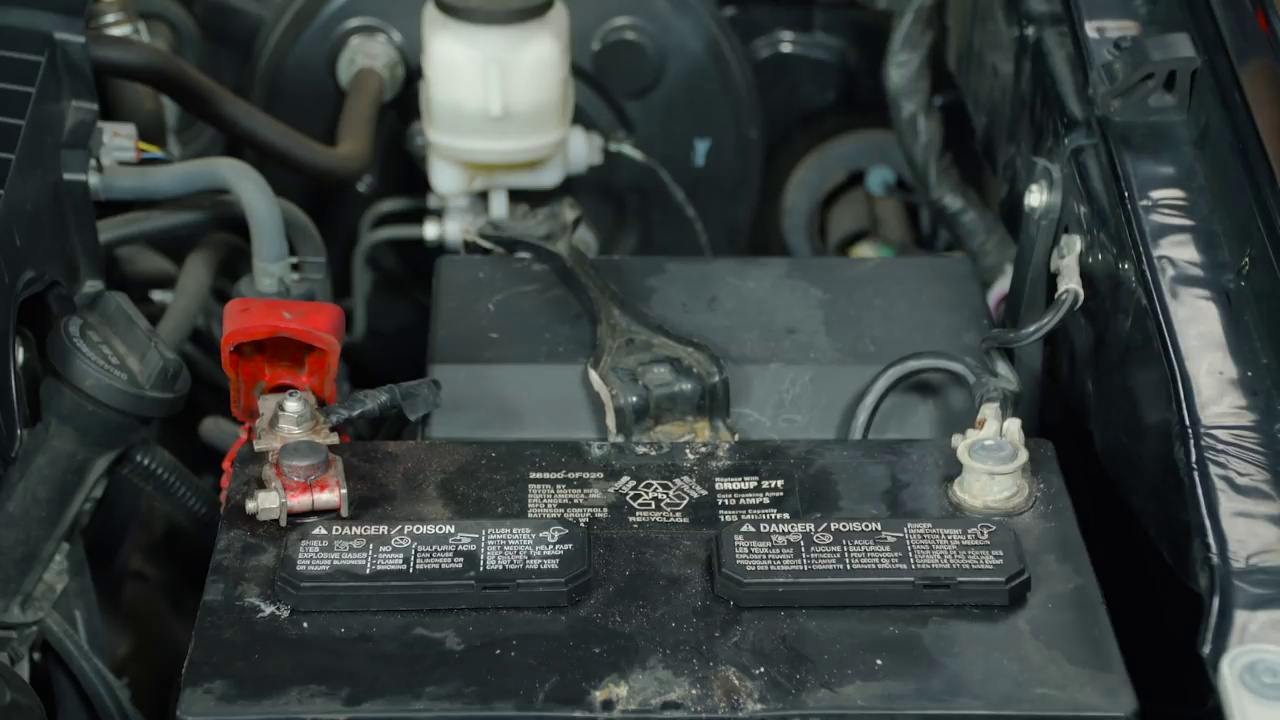battery: (216, 417, 1154, 720)
neg_connected: (935, 348, 1052, 515)
pos_connected: (204, 275, 366, 520)
